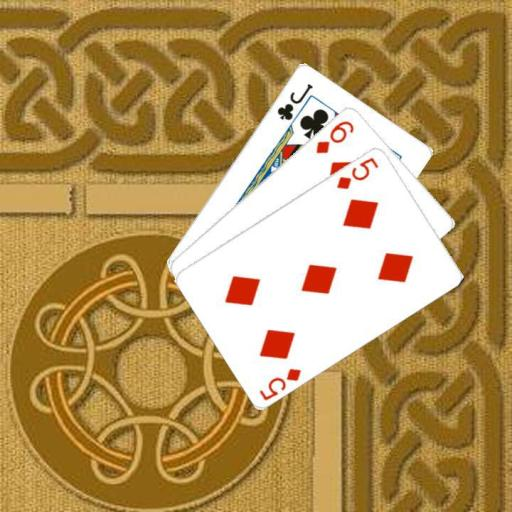5D: (256, 364, 303, 402), (334, 154, 381, 191)
6D: (313, 117, 355, 155)
JC: (273, 80, 314, 122)
